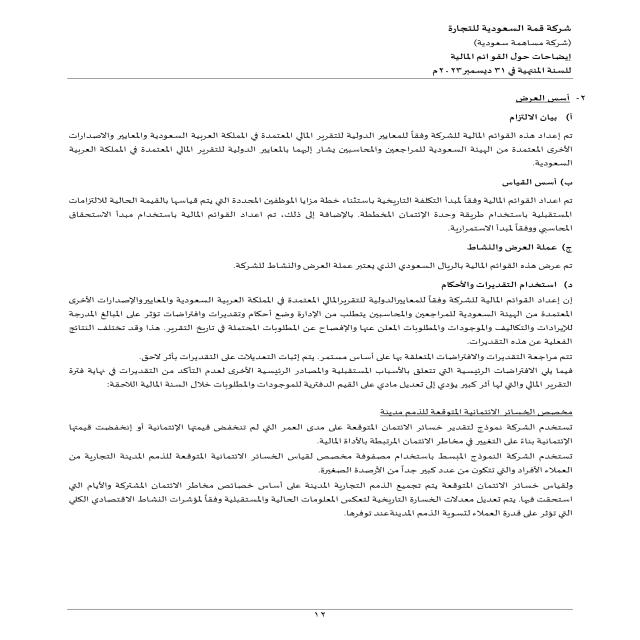notes: (449, 46, 582, 67)
text: (49, 89, 589, 542)
